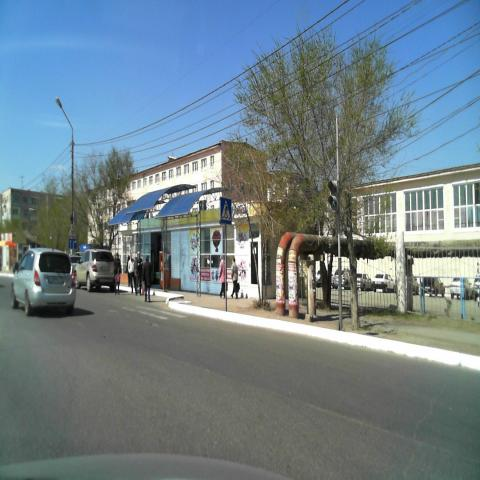1_20_2: (69, 226, 77, 237)
5_15_2_2: (68, 238, 76, 250)
5_19_1: (220, 197, 232, 224)
